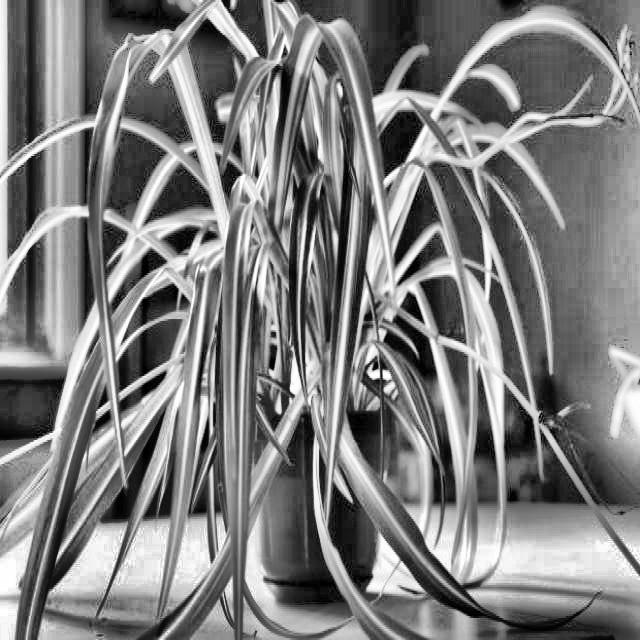plants: (27, 0, 540, 638)
